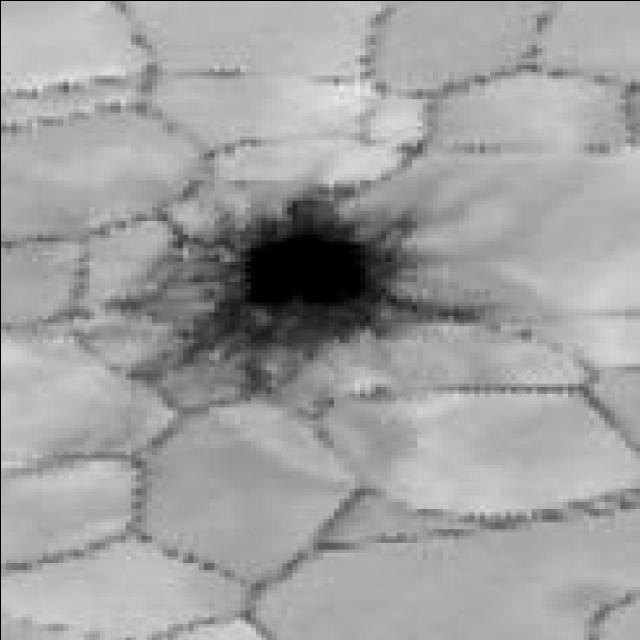good_void: (109, 179, 502, 396)
